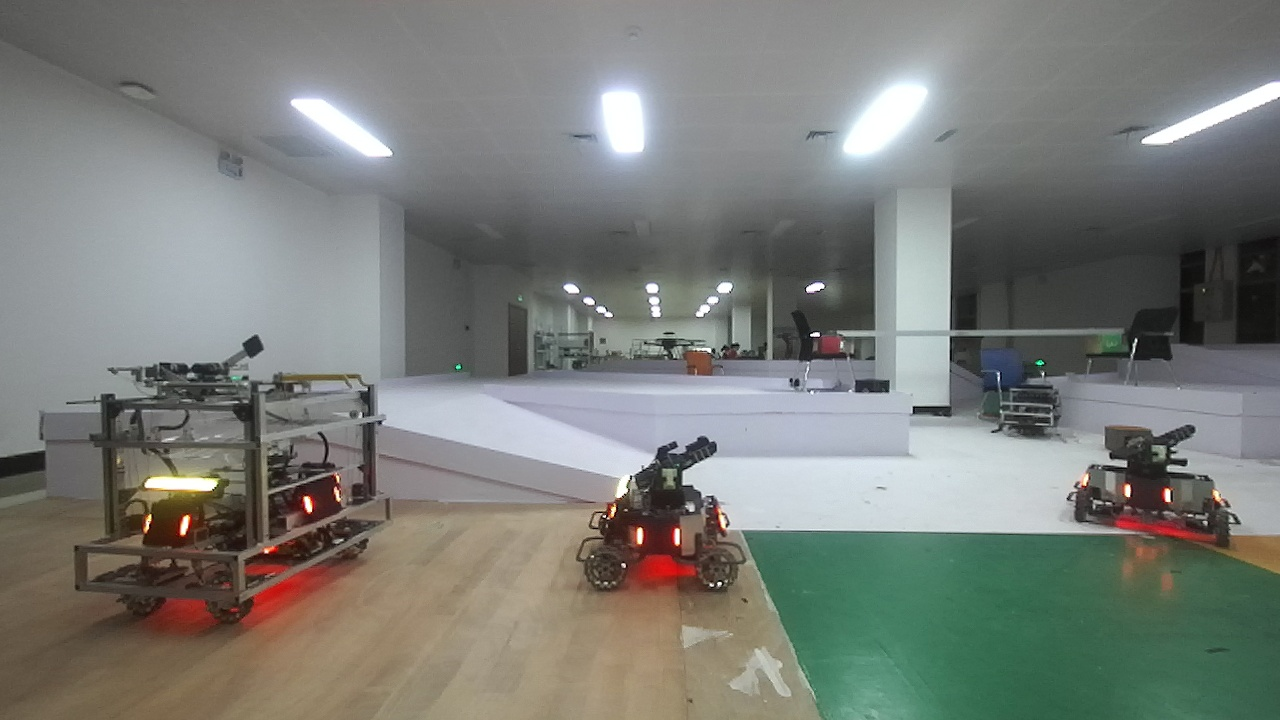car: (66, 349, 411, 635), (570, 429, 775, 599), (1066, 414, 1240, 537)
